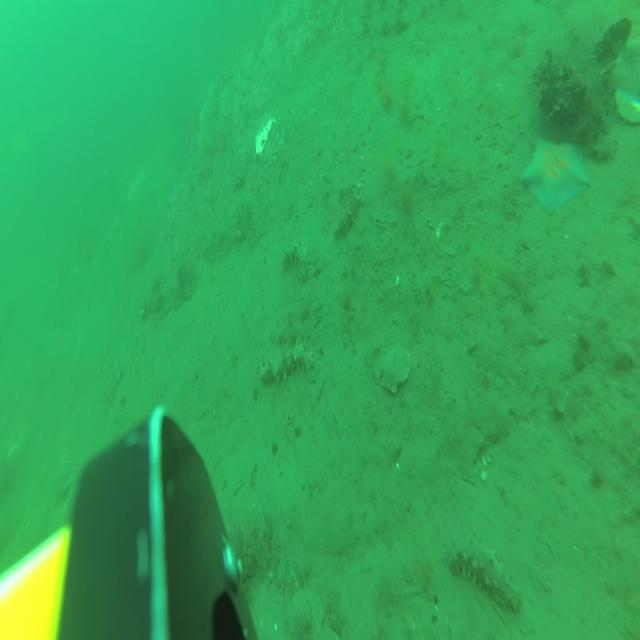holothurian: (449, 530, 518, 610), (258, 339, 314, 386), (334, 182, 362, 240), (103, 355, 128, 413), (284, 243, 310, 282), (57, 433, 72, 498)
scallop: (286, 586, 322, 638), (594, 14, 632, 59), (381, 345, 411, 394), (616, 83, 640, 123), (314, 624, 342, 640)
starfish: (524, 137, 589, 217), (614, 35, 640, 86)
